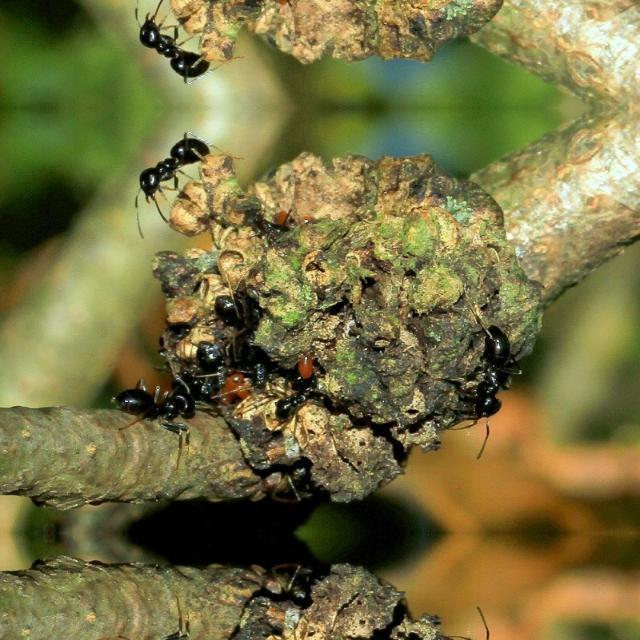Lasius: (131, 122, 229, 215), (131, 0, 229, 90), (462, 322, 530, 426), (104, 370, 206, 428)
